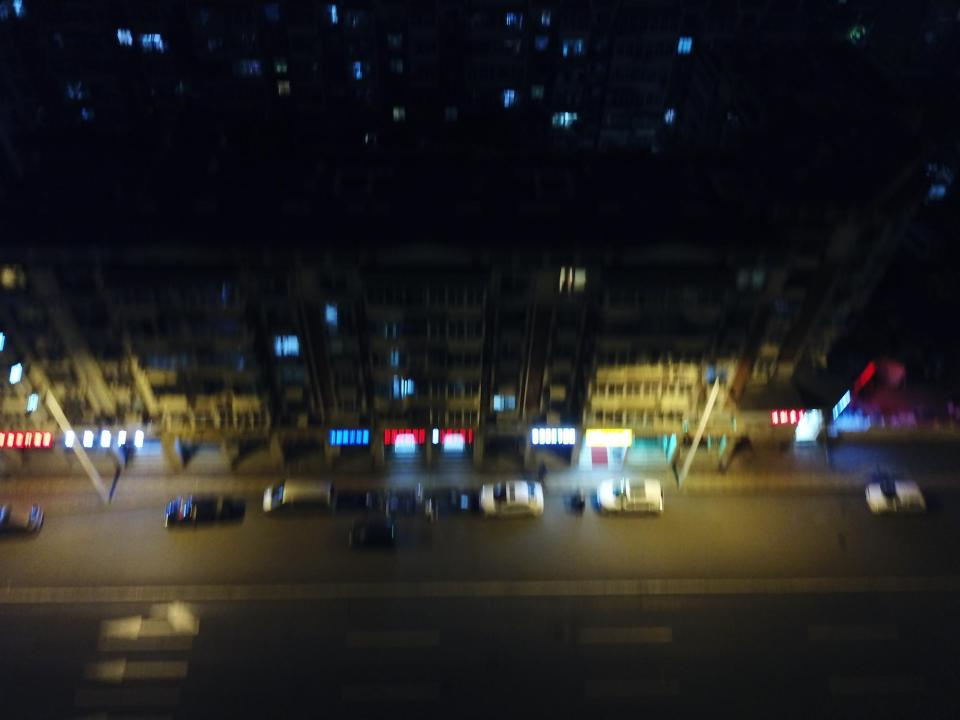car: (163, 494, 248, 530), (478, 480, 544, 519), (597, 478, 664, 514), (864, 480, 926, 516), (0, 500, 45, 536), (347, 522, 396, 551)
van: (262, 479, 334, 519)
